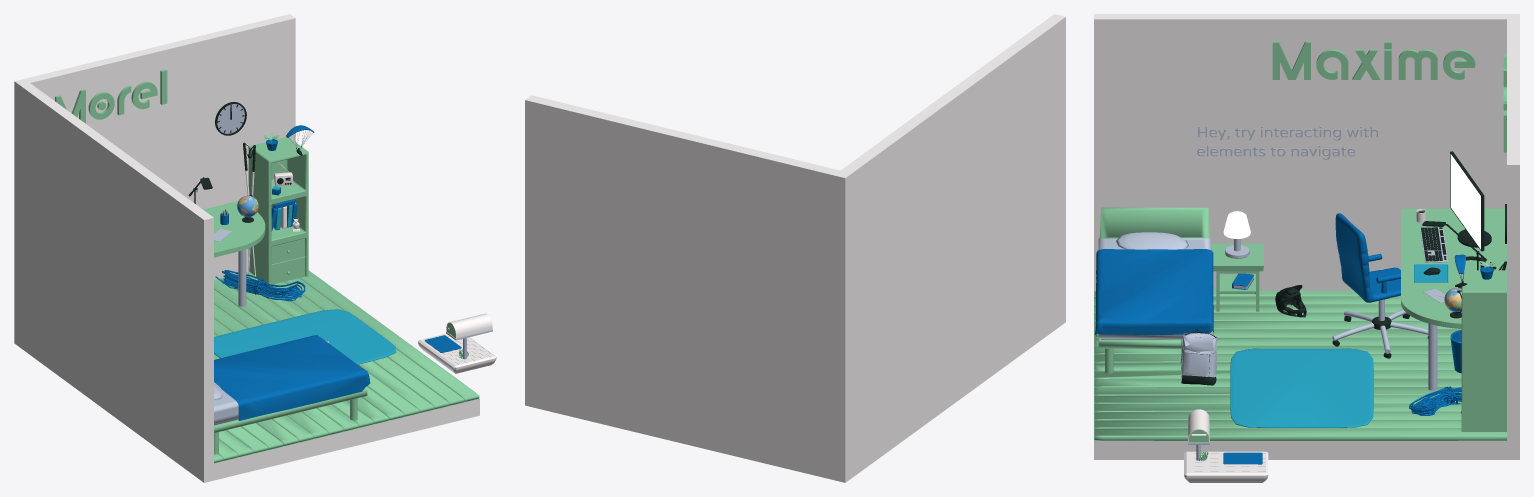
3 renders of one model, left to right at view 1: azimuth 30°, elevation 25°; view 2: azimuth 150°, elevation 25°; view 3: azimuth 270°, elevation 25°, orthographic. The views are drawn at different scales.
Visible parts, largest first — view 1: room, bed, shelve, floormat, table, Last name, room-entry, rope, letter-box, clock, drawer; view 2: room; view 3: room, bed, floormat, shelve, table, chair, Name, room-entry, night table, backpack, screen-video, Text (+7 smaller).
Part boxes in pixels (box(x1,y1,x2,y2)): room: box(14, 14, 479, 482); bed: box(214, 335, 370, 454); shelve: box(248, 137, 308, 285); floormat: box(214, 309, 396, 364); table: box(203, 201, 265, 306); Last name: box(55, 69, 167, 123); room-entry: box(418, 333, 496, 373); rope: box(215, 270, 305, 301); letter-box: box(446, 313, 492, 359); clock: box(215, 102, 246, 135); drawer: box(271, 258, 304, 284); room: box(525, 14, 1065, 482); room: box(1094, 14, 1519, 459); bed: box(1094, 207, 1213, 373); floormat: box(1230, 348, 1373, 427); shelve: box(1461, 270, 1506, 431); table: box(1401, 208, 1506, 390); chair: box(1332, 213, 1428, 358); Name: box(1272, 41, 1475, 79); room-entry: box(1184, 451, 1268, 482); night table: box(1211, 243, 1263, 311); backpack: box(1180, 329, 1217, 385); screen-video: box(1450, 154, 1480, 249); Text: box(1197, 126, 1377, 159).
Bounding box in the file's own units: 6.72 × 5.06 × 6.62.
Materials: 27 (1 with a texture image).
